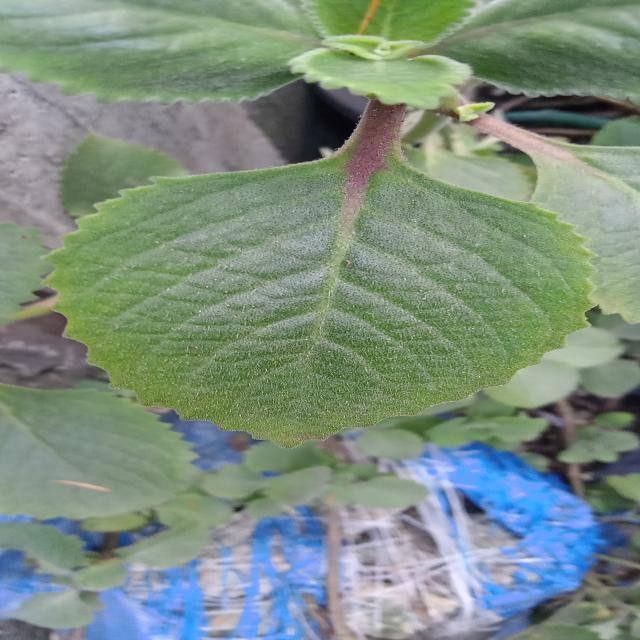Oregano: (29, 154, 609, 448)
